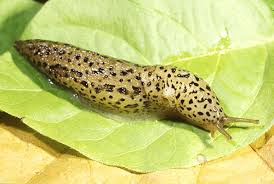slug: (12, 40, 254, 141)
